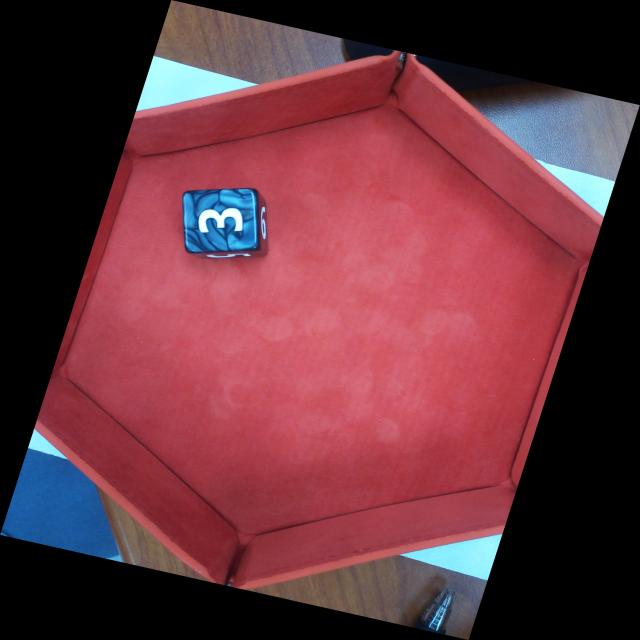dice: (182, 187, 261, 254)
